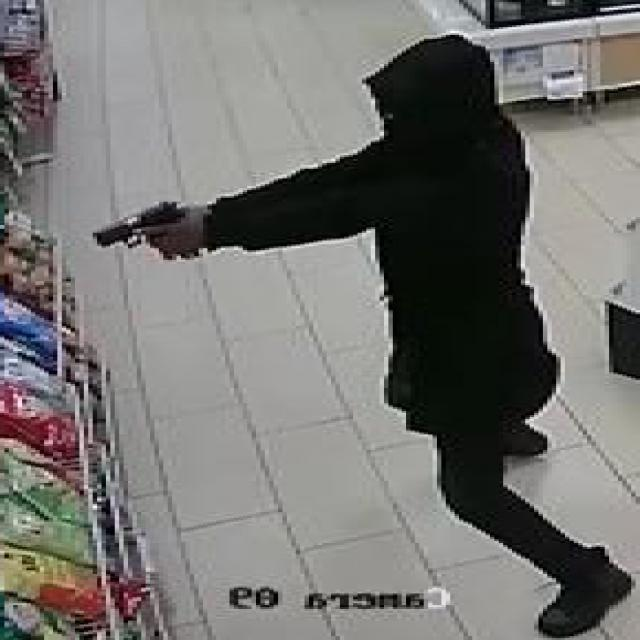Gun: (98, 198, 198, 258)
